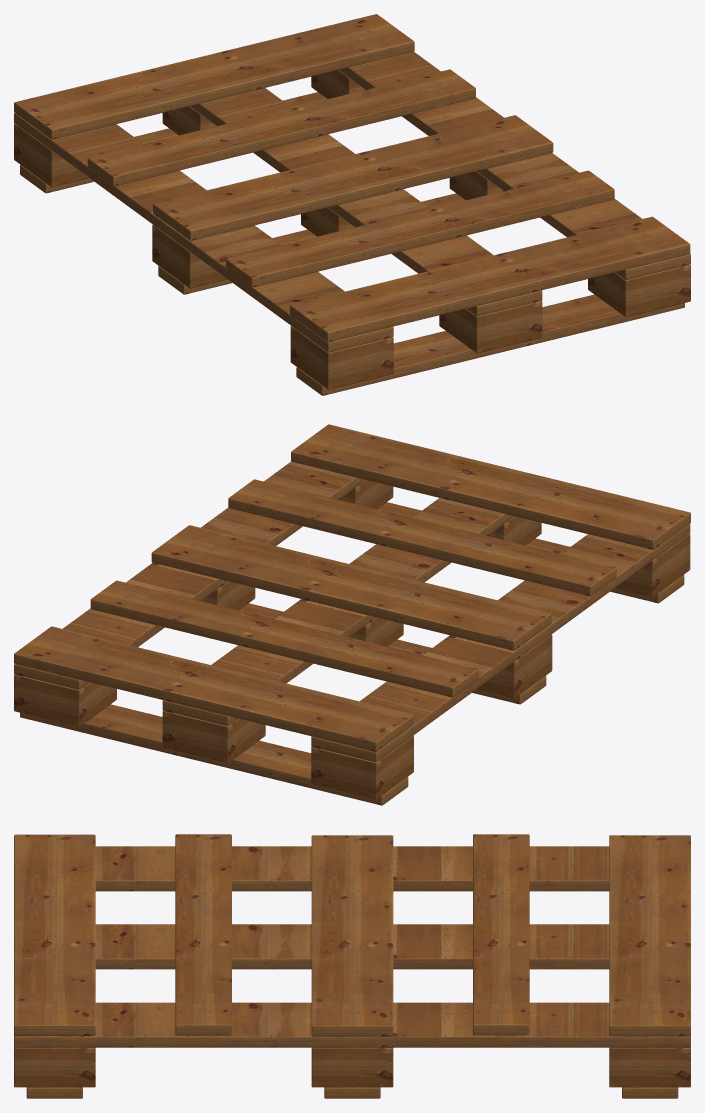
Rendered from pallet.glb.
The picture shows the model from 3 angles, top to bottom: view 1: azimuth 30°, elevation 25°; view 2: azimuth 150°, elevation 25°; view 3: azimuth 270°, elevation 25°; orthographic projection. The views are drawn at different scales.
Parts seen in each view (by area): view 1: pallet; view 2: pallet; view 3: pallet.
Boxes of the visible parts, x1,y1,x2,y2 form: pallet: (14, 14, 690, 395); pallet: (14, 424, 690, 805); pallet: (14, 834, 690, 1098).
Bounding box in the file's own units: 0.8046 × 0.144 × 1.2.
1 material, 1 textured.
